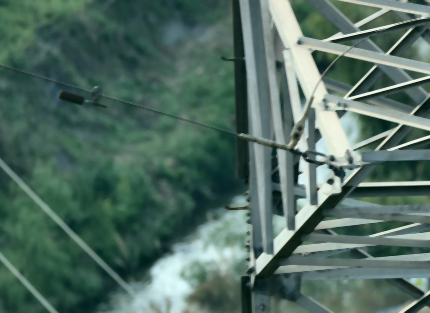damper_defect: (58, 82, 111, 110)
